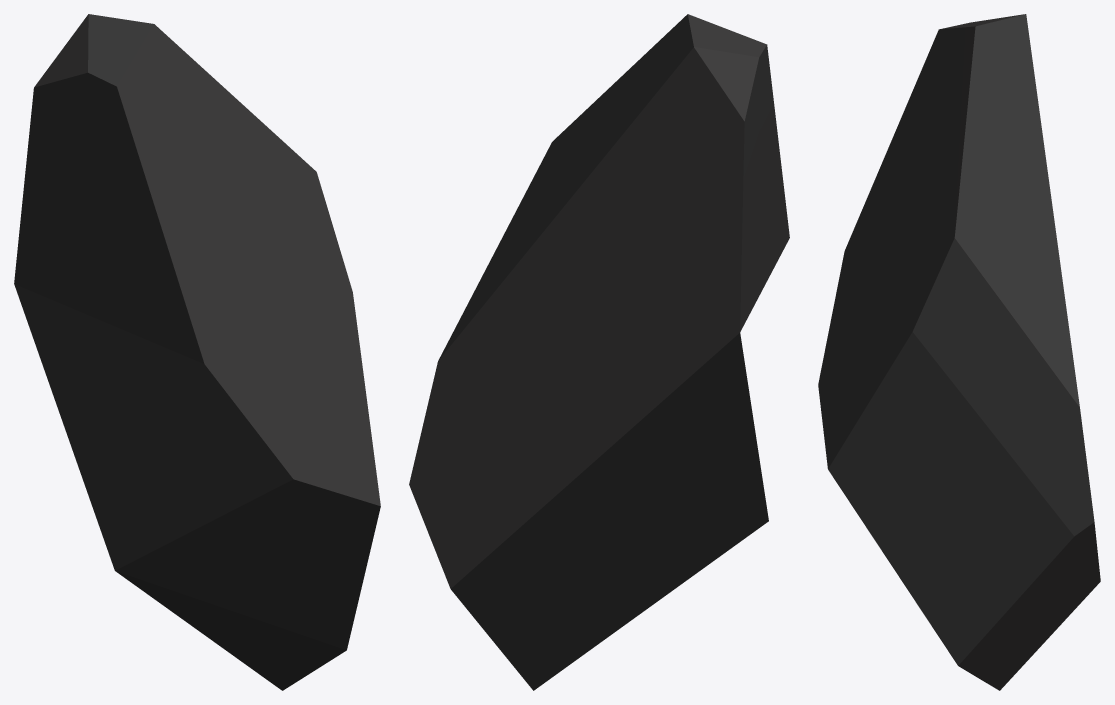
File: Rock_04.glb
3 views of the same model, side by side, from view 1: azimuth 30°, elevation 25°; view 2: azimuth 150°, elevation 25°; view 3: azimuth 270°, elevation 25° (orthographic). The views are drawn at different scales.
Parts seen in each view (by area): view 1: Rock_04; view 2: Rock_04; view 3: Rock_04.
Boxes of the visible parts, left/top/right/bottom form: Rock_04: left=14, top=14, right=380, bottom=690; Rock_04: left=409, top=14, right=789, bottom=690; Rock_04: left=818, top=14, right=1100, bottom=690.
Size of what is drawn, in the model's own units: 0.7047 by 1.55 by 0.6539.
1 material, 1 textured.
